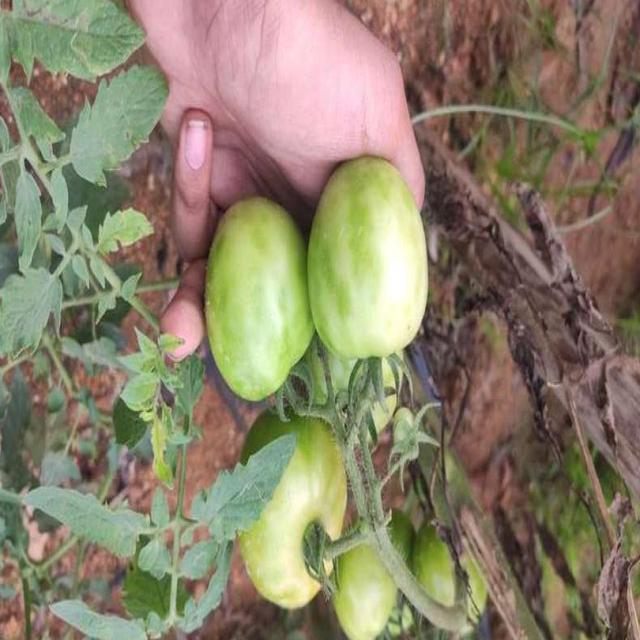Spotted wilt Virus Fruit: (152, 200, 210, 289)
